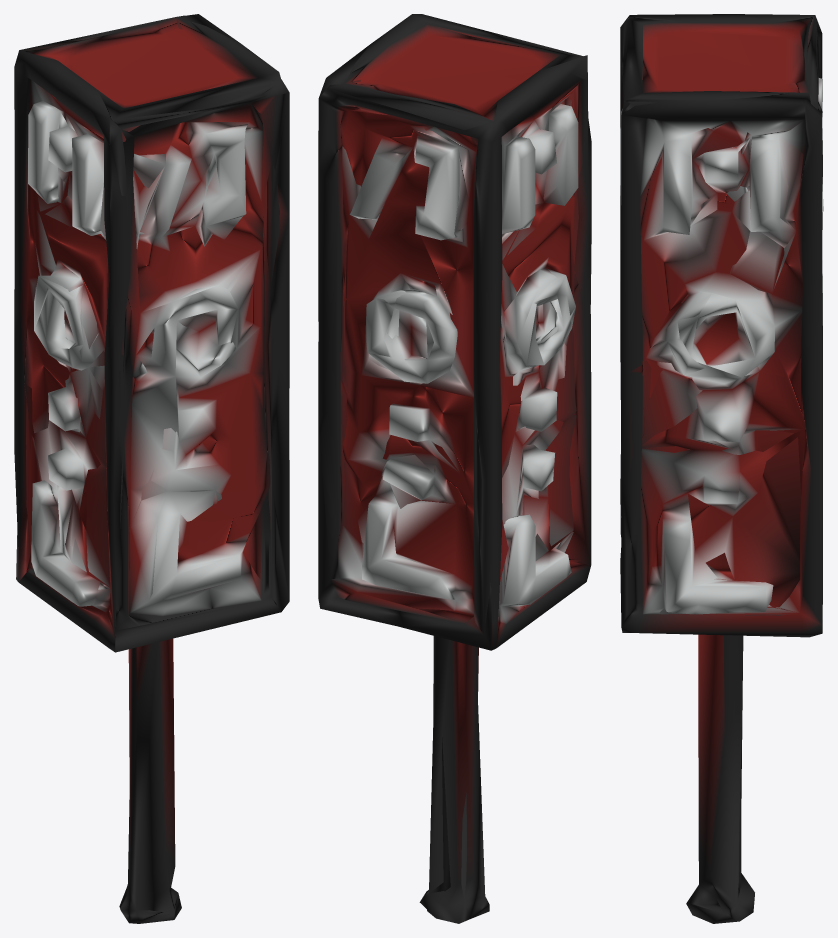
Rendered from gen3d-hotel-sign-lod0.glb.
3 renders of one model, left to right at view 1: azimuth 30°, elevation 25°; view 2: azimuth 150°, elevation 25°; view 3: azimuth 270°, elevation 25°, orthographic.
Parts seen in each view (by area): view 1: part_0; view 2: part_0; view 3: part_0.
Part boxes in pixels (x1,y1,x2,y2): part_0: (14, 14, 289, 923); part_0: (318, 14, 591, 923); part_0: (620, 14, 823, 923).
Size of the model in its own units: 0.237 by 0.9969 by 0.2147.
